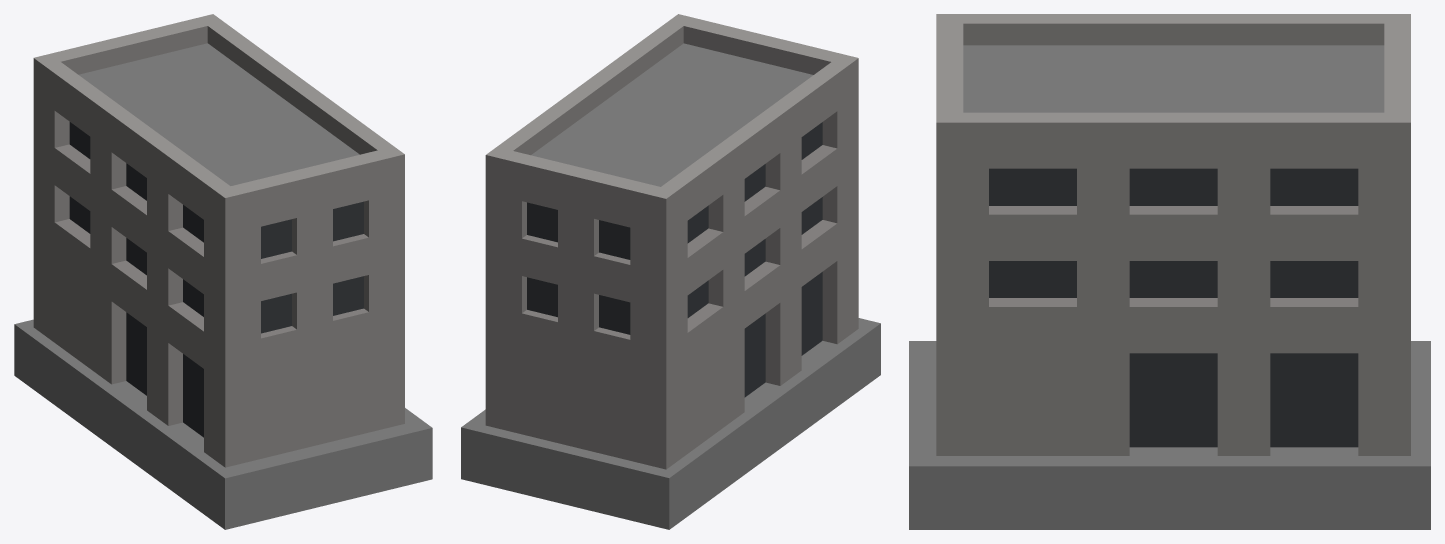
File: SM_Bld_City_07.fbx
3 renders of one model, left to right at view 1: azimuth 30°, elevation 25°; view 2: azimuth 150°, elevation 25°; view 3: azimuth 270°, elevation 25°, orthographic. The views are drawn at different scales.
Visible parts, largest first — view 1: SM_Bld_City_07; view 2: SM_Bld_City_07; view 3: SM_Bld_City_07.
Boxes of the visible parts, x1,y1,x2,y2 form: SM_Bld_City_07: [14, 14, 432, 529]; SM_Bld_City_07: [461, 14, 880, 529]; SM_Bld_City_07: [909, 14, 1430, 529].
Size of the model in its own units: 38.27 by 56.61 by 67.35.
